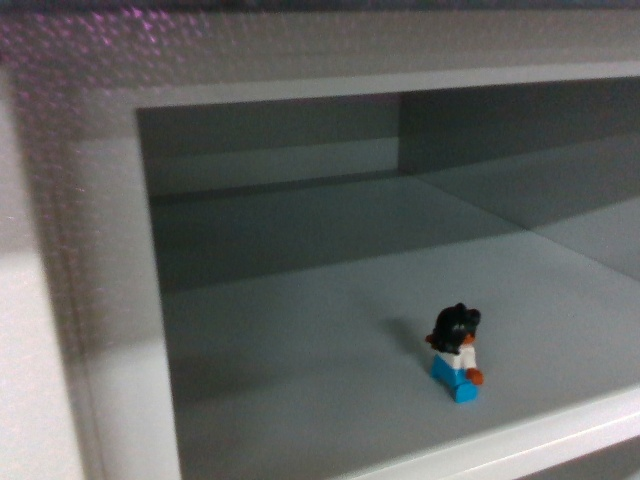people: (423, 299, 485, 407)
